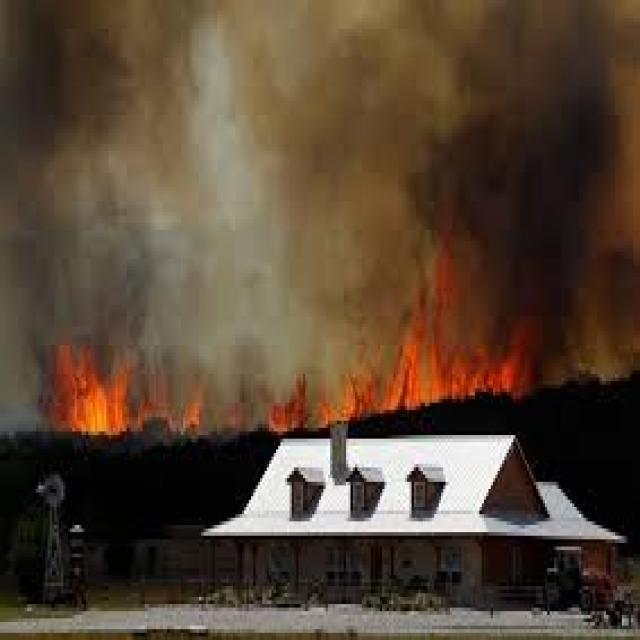Fire: (267, 324, 535, 430), (43, 344, 207, 437)
Smoke: (0, 0, 640, 331)
